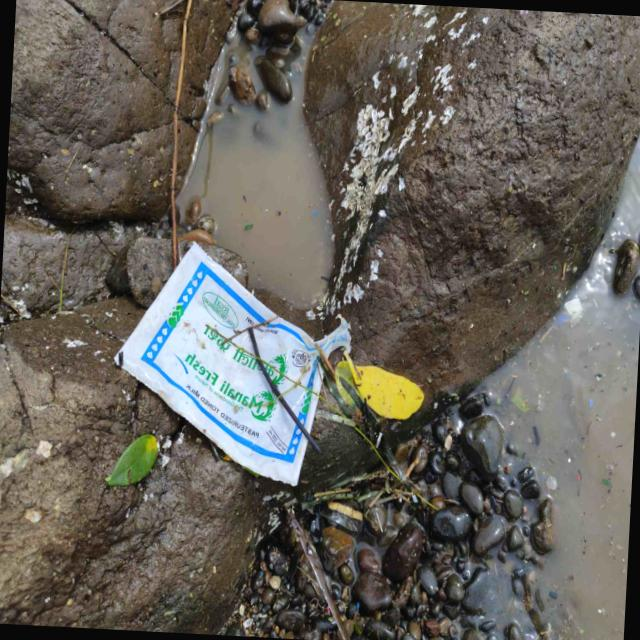goi_nhua_nho: (115, 244, 322, 486)
